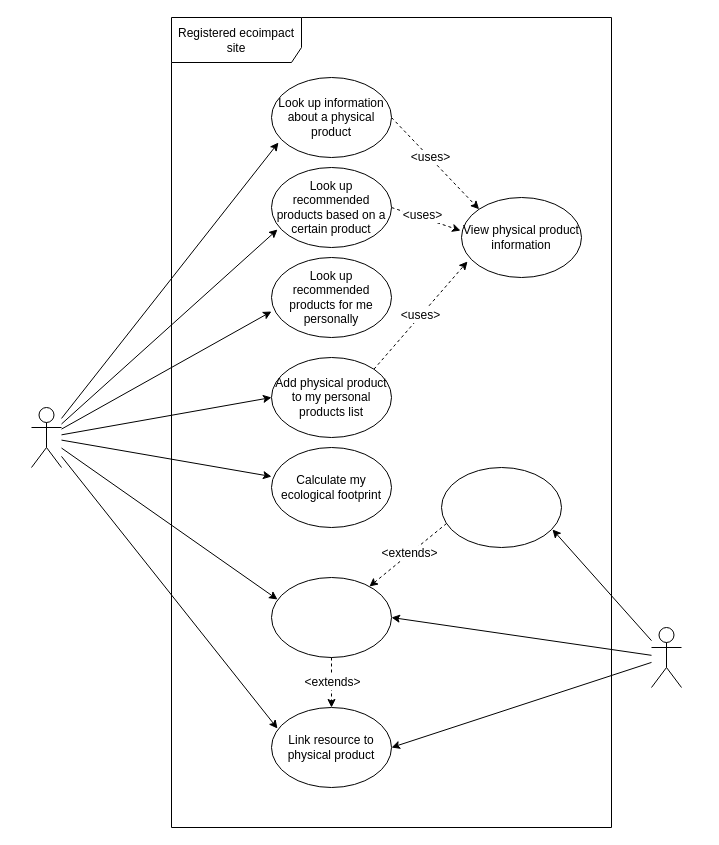
Image size: 719x845. Some labels were removed from this diagram. The centre of each missing label's shape, as x and y in pixels:
"Add a physical product" goes at (331,617).
"Add a resource for physical products" goes at (501,507).
"Administrator" goes at (666,657).
"Registered user" goes at (46,437).
